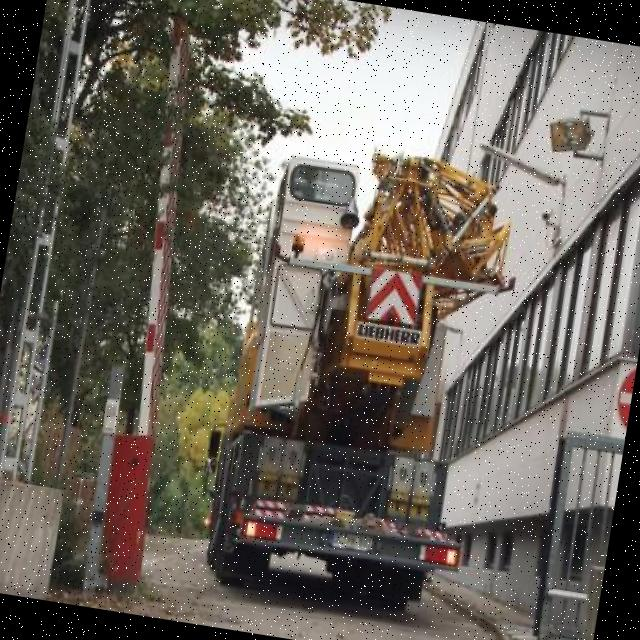Mobile Crane: (196, 133, 526, 617)
